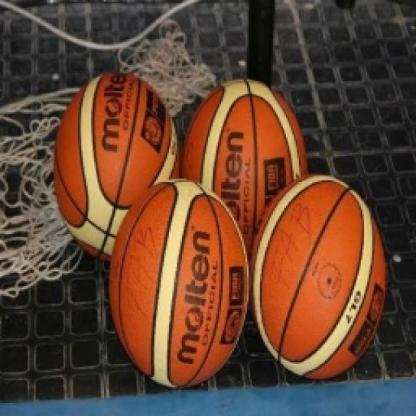basketball: (105, 176, 250, 390), (252, 171, 392, 383), (49, 66, 184, 260), (184, 76, 312, 254)
